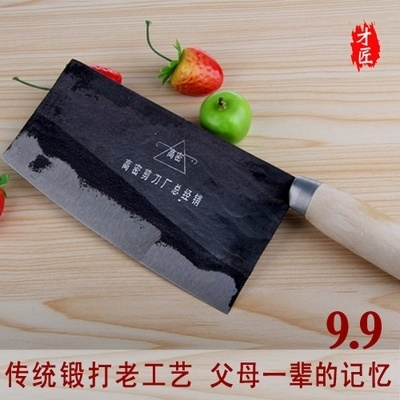knief: (19, 66, 392, 313)
